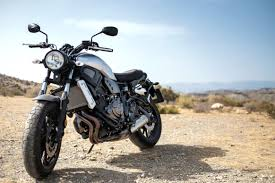moto: (19, 20, 168, 179)
